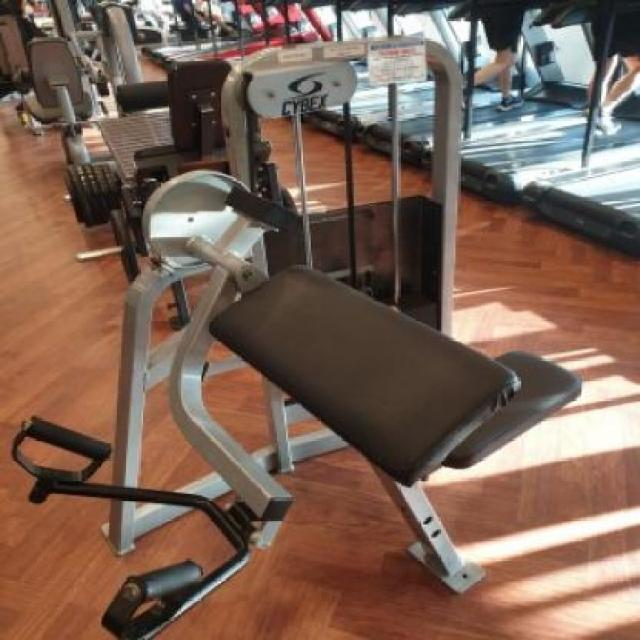arm curl machine: (12, 198, 583, 640)
